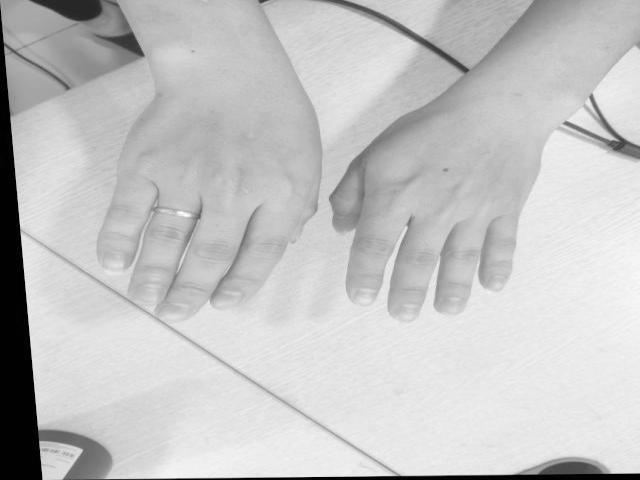not-gloved: (100, 62, 324, 319), (332, 85, 544, 318)
